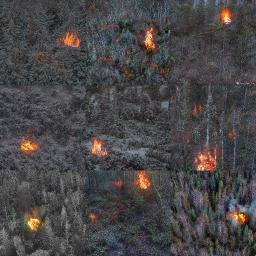Small fire: (136, 19, 166, 59), (188, 148, 225, 177), (53, 26, 86, 57), (223, 202, 255, 233), (86, 135, 117, 161), (133, 169, 158, 196), (217, 4, 240, 32), (15, 131, 41, 154), (21, 210, 43, 236)
